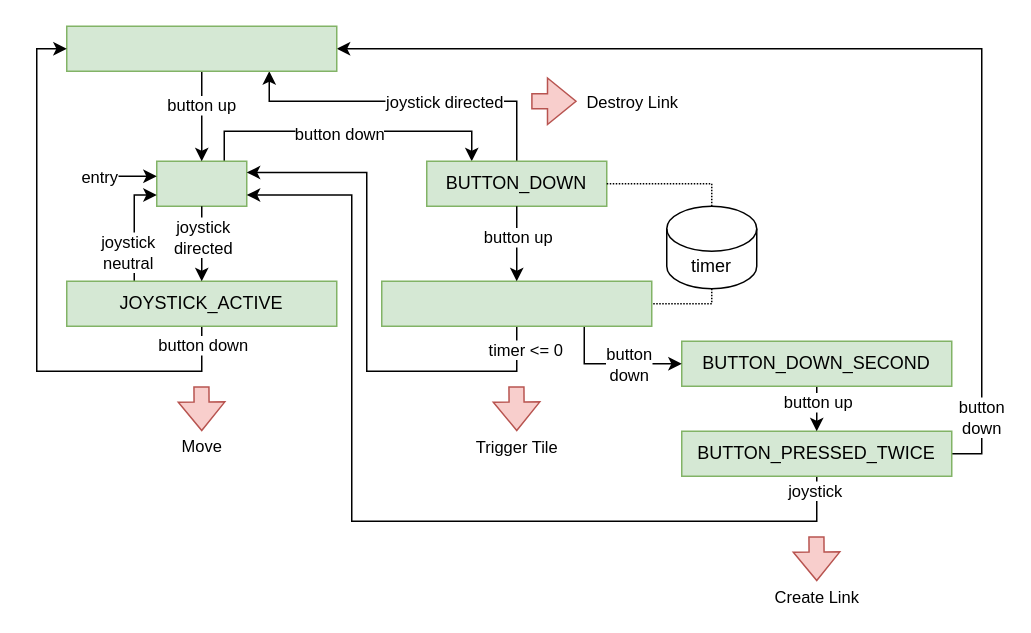
Some shapes in this 1031 by 633 pixel diagram are drawn without their labels. Here are the shapes that lost their labels. From the top down, the box of each, then its label:
(65, 25, 337, 71): WAITING_FOR_RELEASE
(155, 160, 247, 206): IDLE
(380, 280, 652, 326): BUTTON_PRESSED_ONCE
